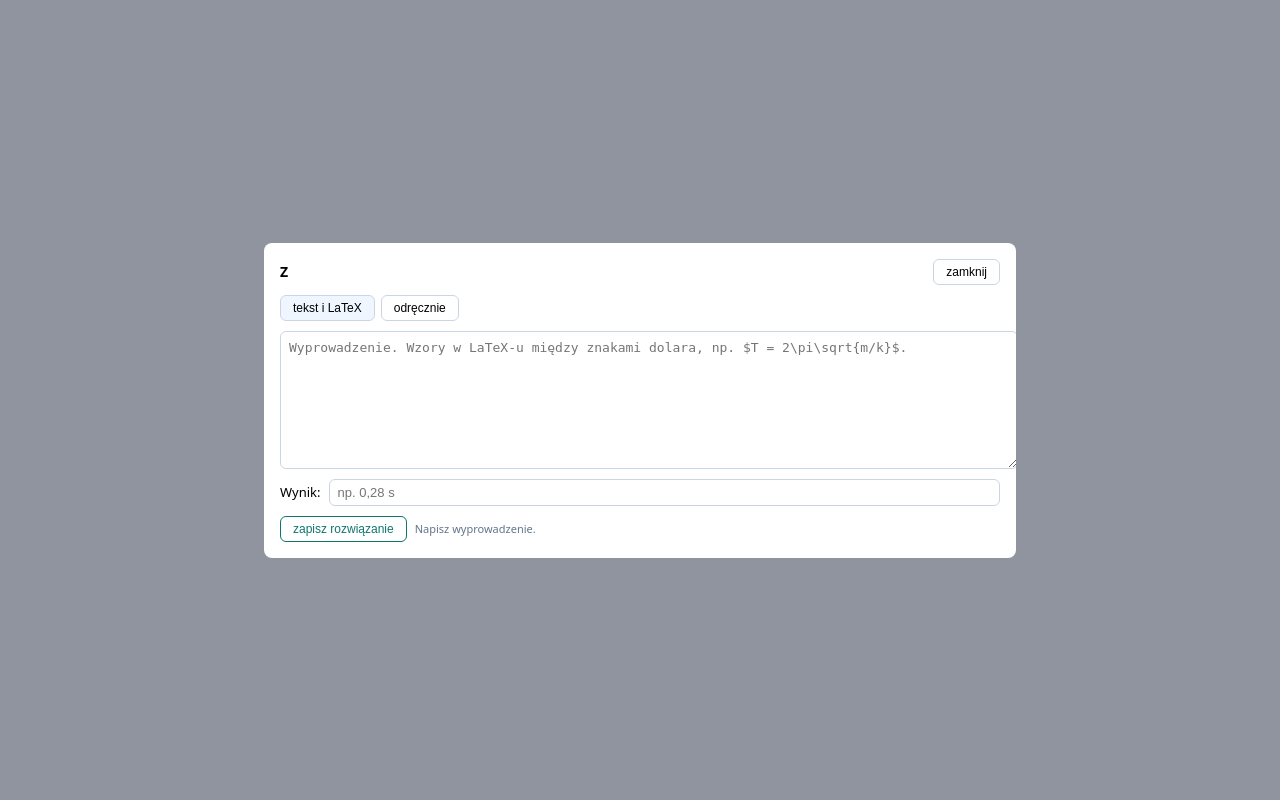
Test case: okno rozwiązywania zadania › pokazuje podgląd składu pisanej treści
Replace the text in the text box with placeholder "Wyprowadzenie" with "Wynik $x^2$ gotowe" at (649, 400), box top-left (280, 330), bottom-right (1018, 468)
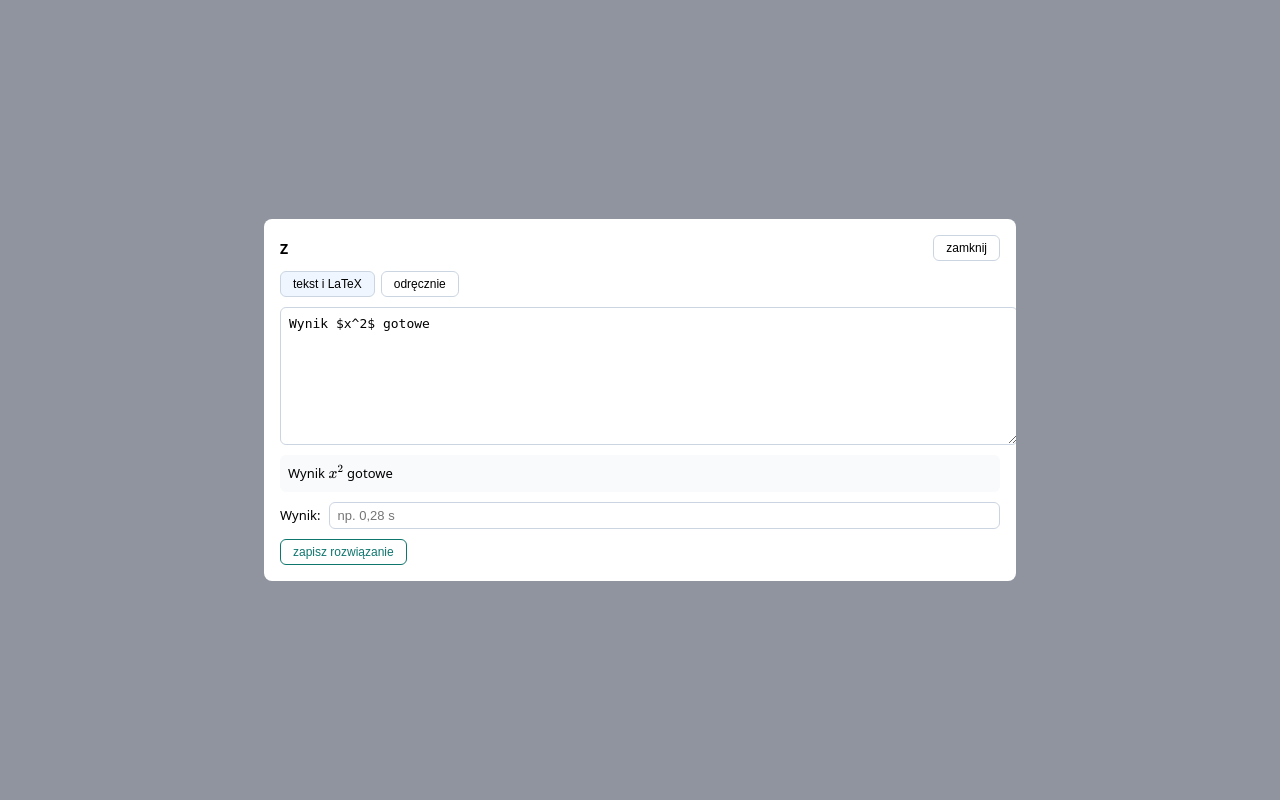
Expected: the text "gotowe" is shown, top-left (344, 464), bottom-right (393, 482)
